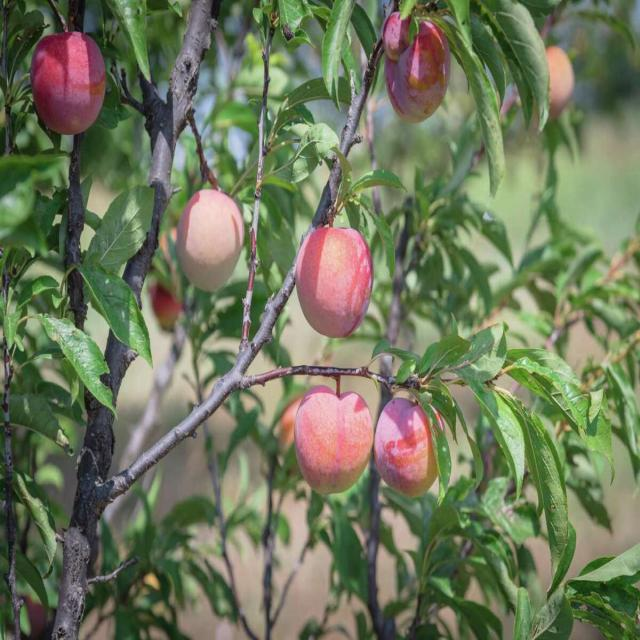peach: (0, 0, 568, 595)
